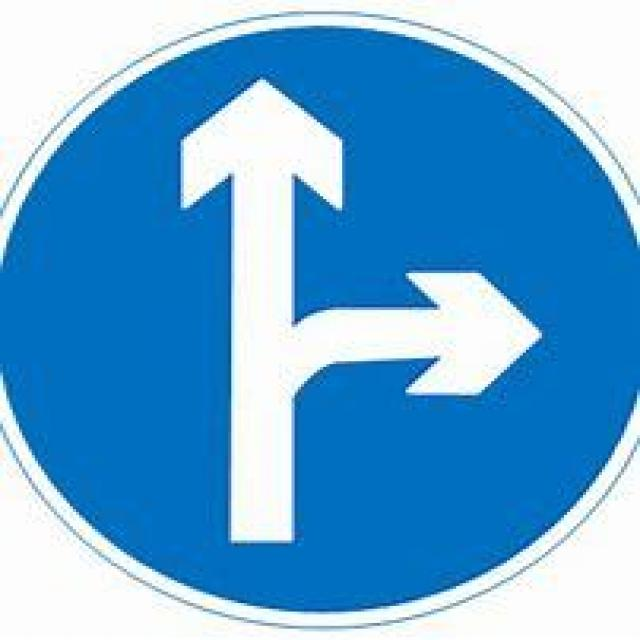COMPULSARY_AHEAD_OR_TURN_RIGHT: (0, 8, 637, 626)
